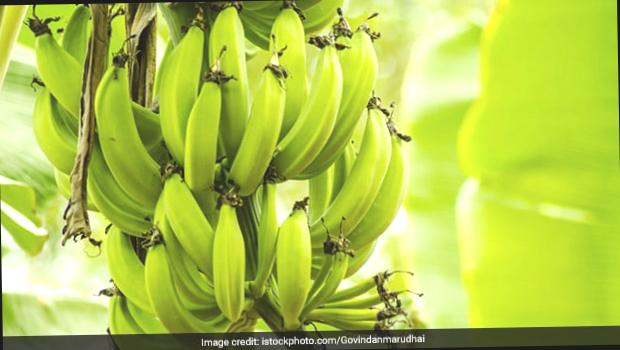Banana Unripe: (14, 0, 430, 335)
